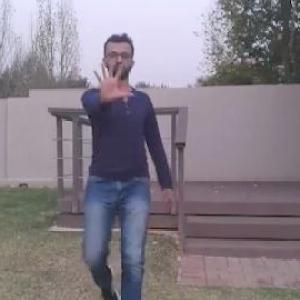follow_hand: (91, 59, 135, 102)
